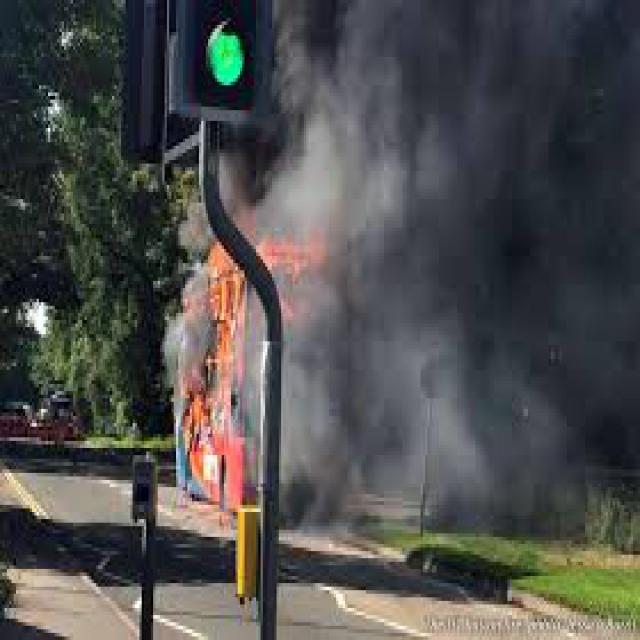smoke: (288, 36, 638, 519), (151, 298, 222, 388)
